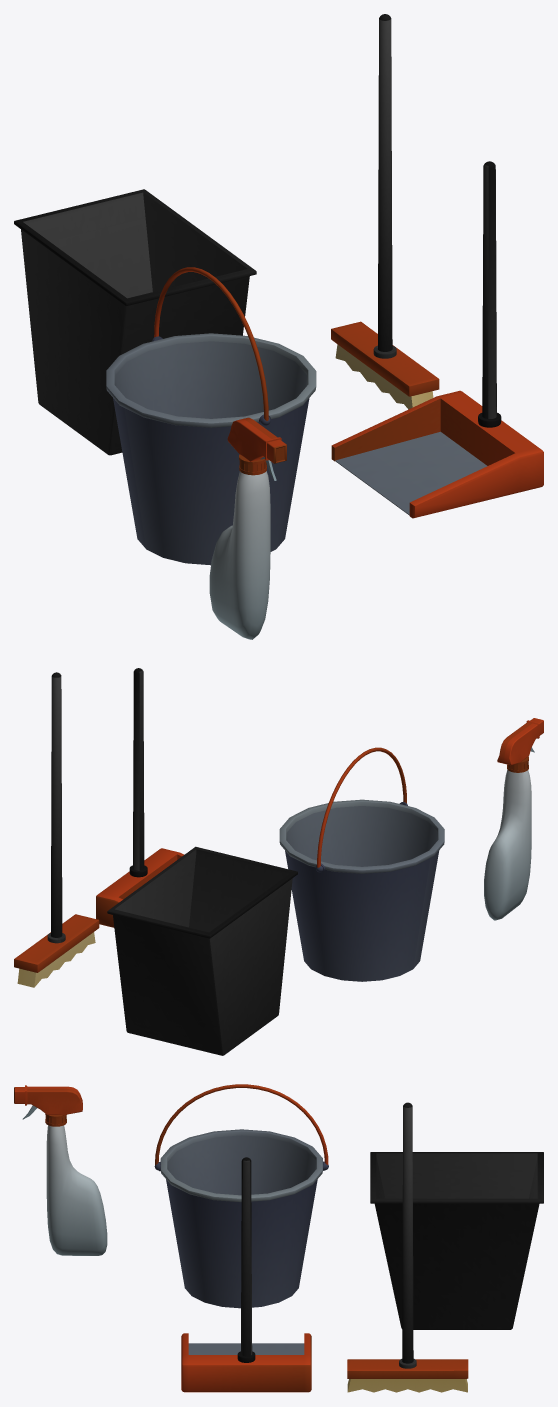
The model's file is Lazy Unwrap.fbx.
3 views of the same model, one above another, from view 1: azimuth 30°, elevation 25°; view 2: azimuth 150°, elevation 25°; view 3: azimuth 270°, elevation 25° (orthographic). The views are drawn at different scales.
Visible parts, largest first — view 1: Bote de basura, Cubeta, Recojedor, Atomizador, Escoba; view 2: Bote de basura, Cubeta, Atomizador, Escoba, Recojedor; view 3: Bote de basura, Cubeta, Recojedor, Atomizador, Escoba.
Part boxes in pixels (<box>): Bote de basura: <box>14,189,256,455</box>; Cubeta: <box>106,267,316,565</box>; Recojedor: <box>331,161,543,518</box>; Atomizador: <box>209,417,286,639</box>; Escoba: <box>331,14,439,409</box>; Bote de basura: <box>107,846,297,1055</box>; Cubeta: <box>279,747,444,981</box>; Atomizador: <box>484,718,543,920</box>; Escoba: <box>14,672,99,987</box>; Recojedor: <box>96,668,184,927</box>; Bote de basura: <box>370,1152,543,1329</box>; Cubeta: <box>154,1084,328,1308</box>; Recojedor: <box>181,1157,311,1392</box>; Atomizador: <box>14,1085,107,1255</box>; Escoba: <box>347,1102,468,1392</box>.
Bounding box in the file's own units: 119 × 108 × 180.
